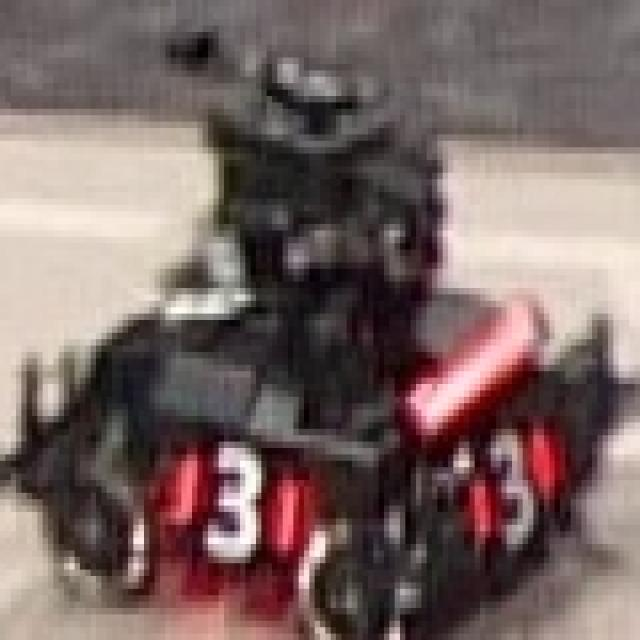R3: (165, 435, 299, 570), (464, 416, 555, 550)
